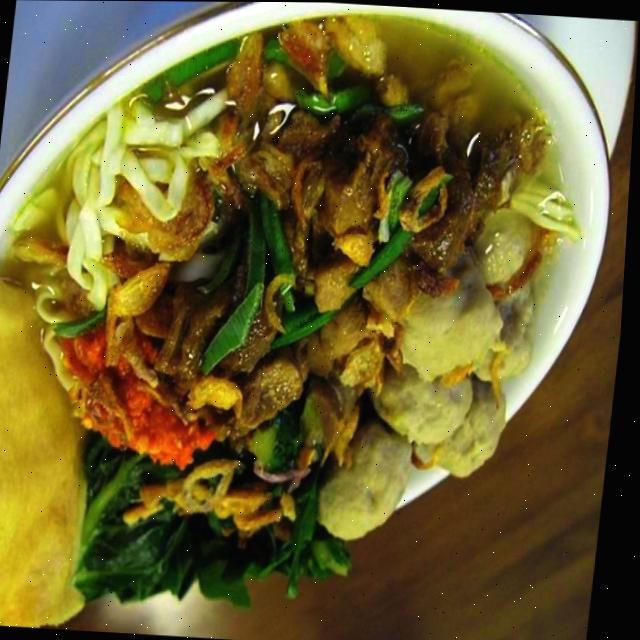面条主食: (8, 18, 591, 602)
